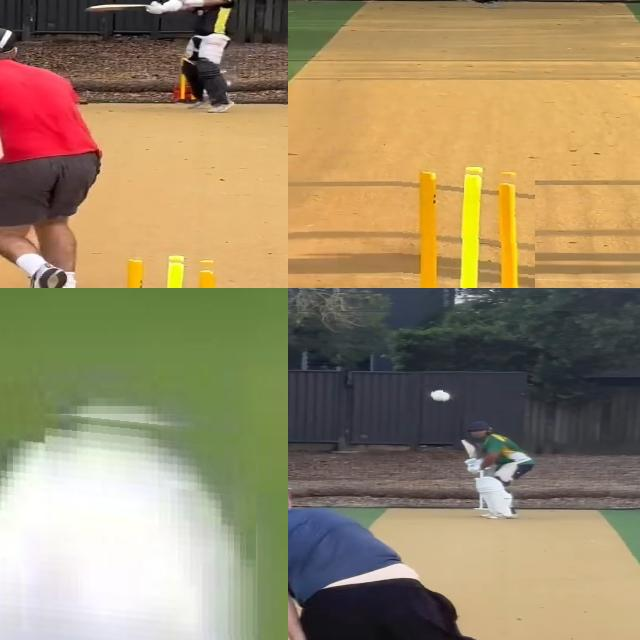Cricket ball: (0, 398, 256, 640), (428, 387, 454, 402)
Stumps: (397, 162, 535, 288), (107, 253, 228, 288)
